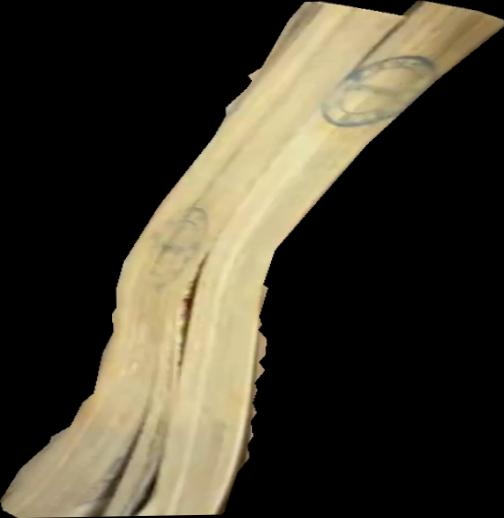backward: (1, 1, 504, 518)
